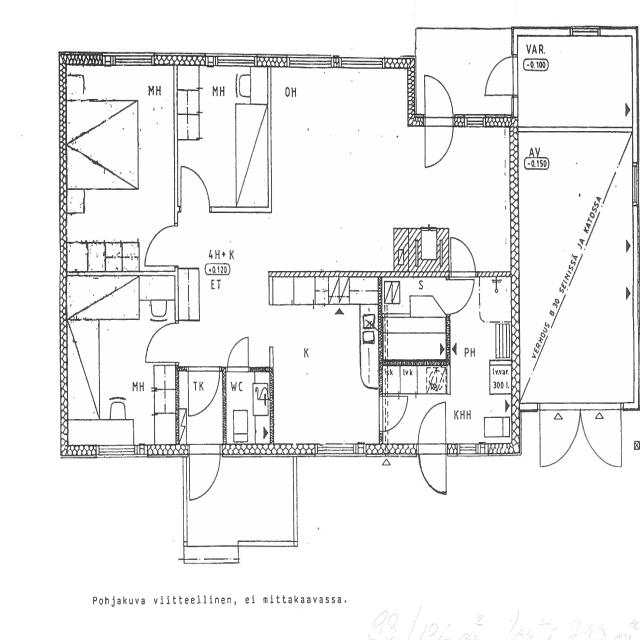door: (580, 402, 621, 468), (540, 402, 580, 468), (189, 445, 220, 500), (188, 366, 220, 417), (418, 445, 446, 497), (418, 405, 446, 457), (425, 74, 453, 126), (425, 114, 453, 166), (180, 166, 210, 212), (145, 225, 178, 266), (487, 56, 521, 95), (145, 322, 178, 362), (451, 237, 476, 277), (445, 280, 474, 314), (378, 396, 406, 431), (228, 337, 248, 372)
